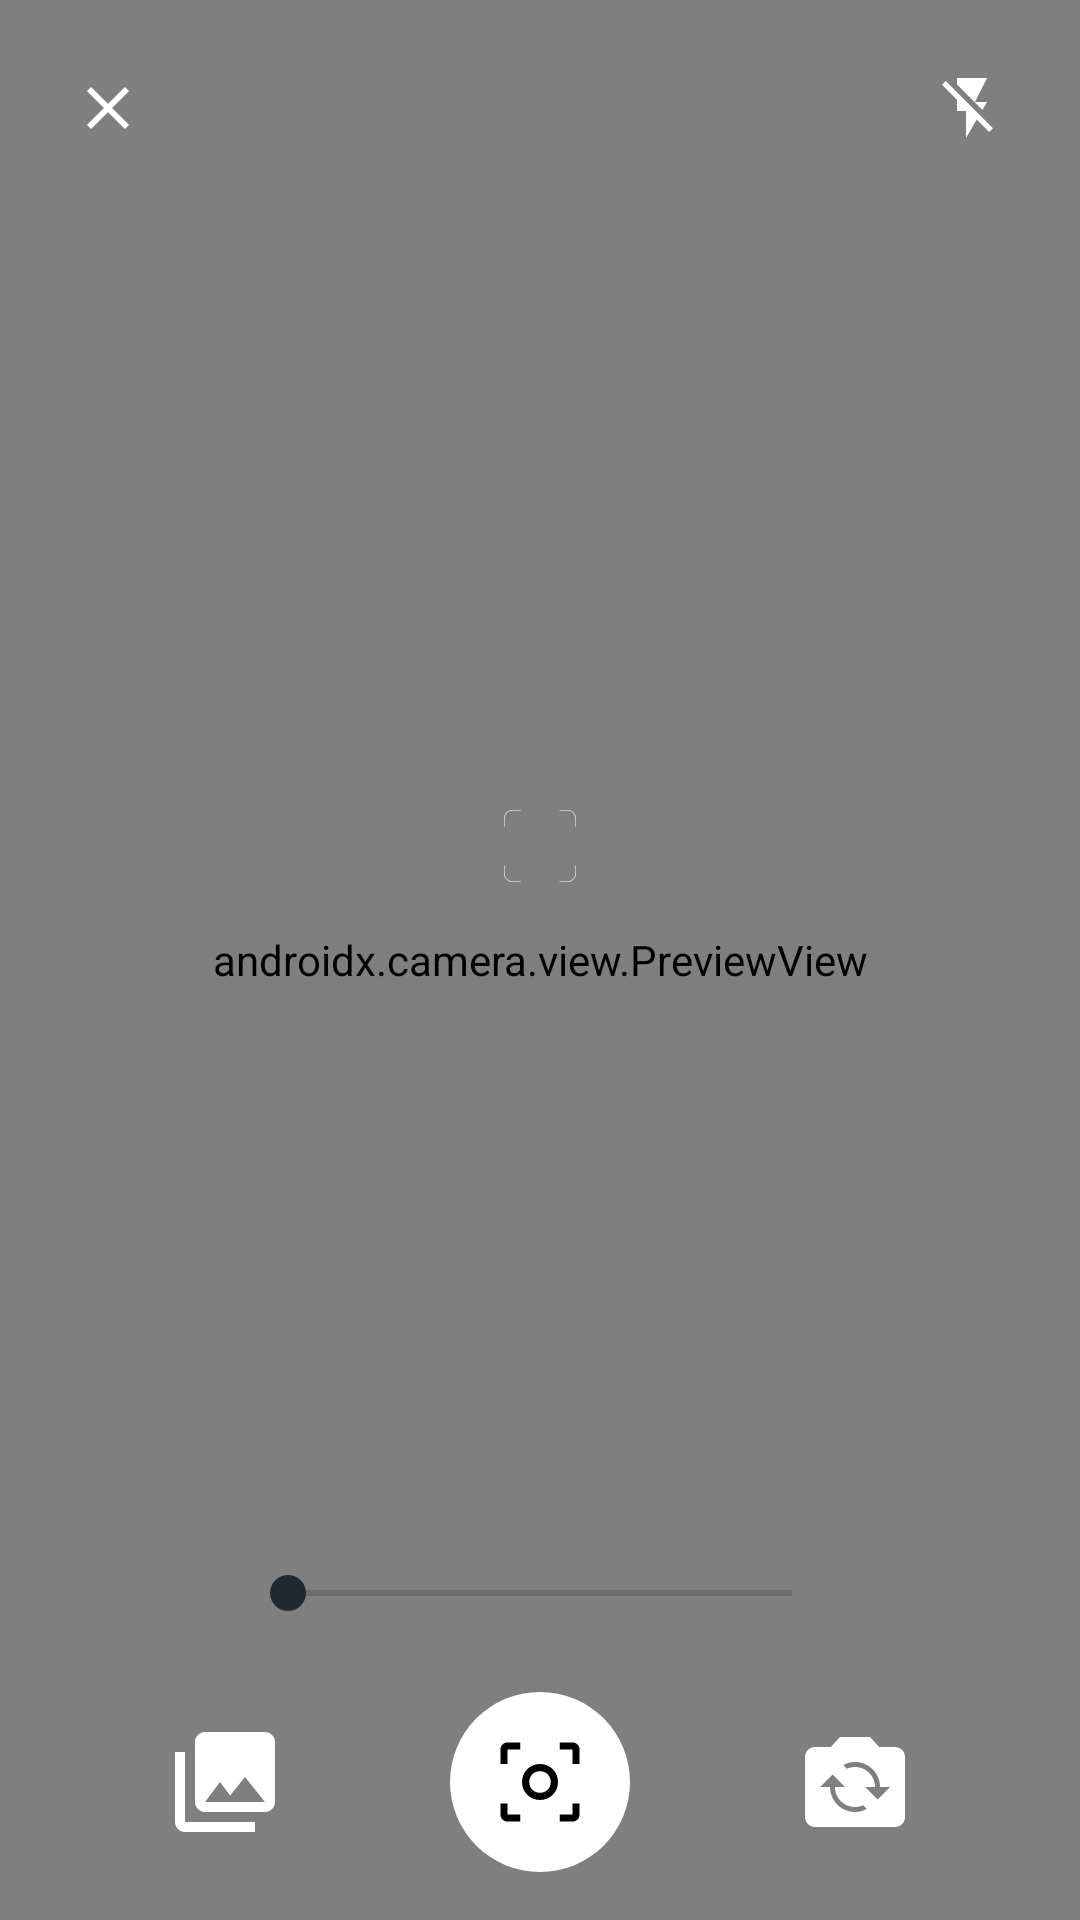

Icons on this 1080 x 1920 Android screen, each with its box as (x1, y1, x2, y2):
Close: (87, 87, 129, 129)
flash: (942, 78, 993, 138)
Open gallery: (175, 1732, 275, 1832)
Switch camera: (805, 1737, 905, 1827)
Take Photo: (450, 1692, 630, 1872)
